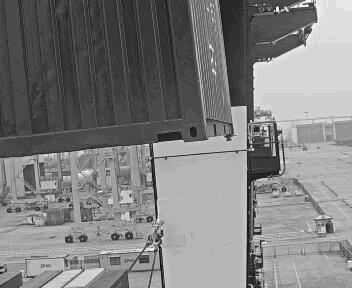twist_lock_1: (216, 128, 238, 148)
